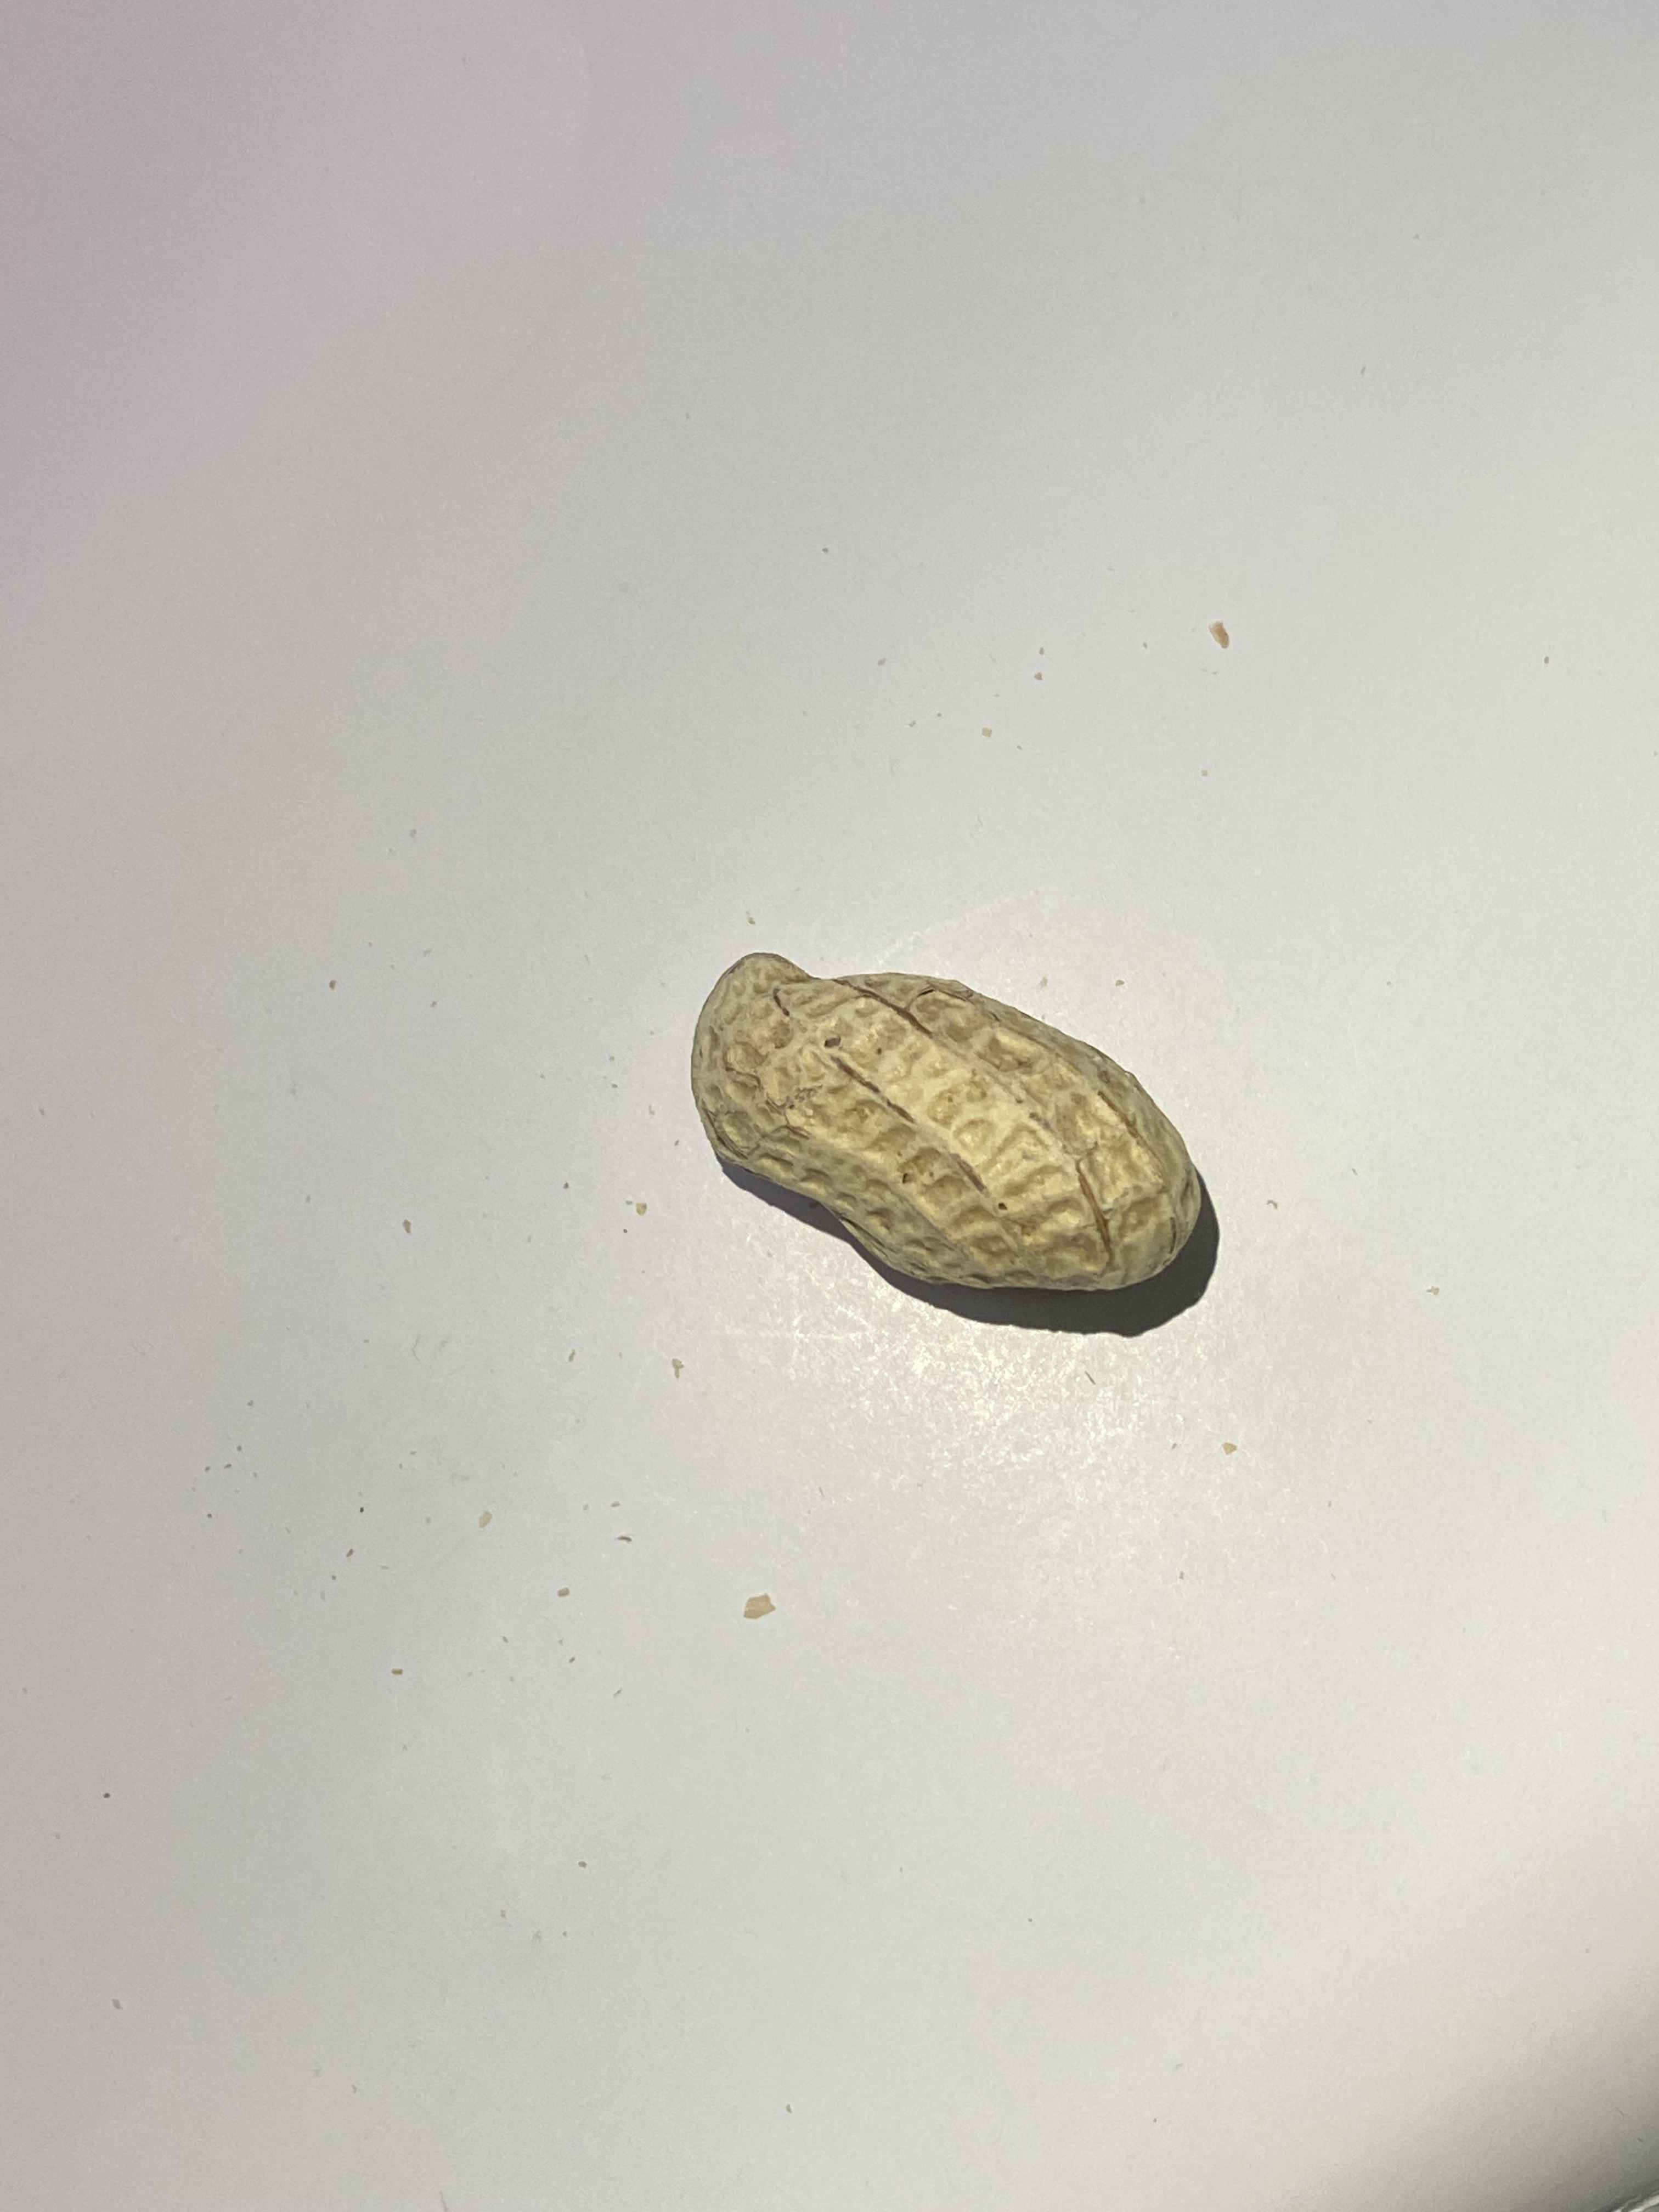kacang1: (676, 925, 1225, 1315)
